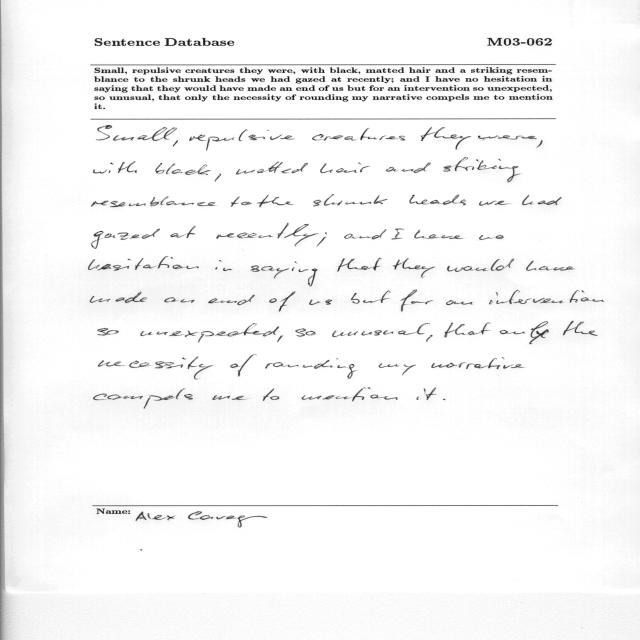word: (140, 323, 279, 343), (99, 357, 214, 380), (216, 223, 319, 246), (190, 129, 296, 151), (93, 389, 193, 409), (265, 358, 357, 379), (444, 158, 522, 182), (251, 262, 318, 287), (89, 256, 199, 271), (489, 290, 604, 304), (91, 229, 160, 249), (333, 323, 431, 337), (92, 197, 216, 208), (96, 125, 177, 141), (302, 388, 398, 401), (312, 128, 405, 141), (421, 127, 471, 150), (500, 321, 549, 344), (431, 358, 524, 370), (236, 162, 308, 175), (313, 195, 387, 207), (447, 259, 514, 272), (393, 258, 435, 278), (444, 323, 491, 338), (155, 163, 211, 175), (401, 290, 433, 311), (337, 258, 382, 272), (409, 195, 466, 206), (90, 292, 147, 303), (93, 161, 137, 174), (269, 291, 296, 312), (351, 290, 391, 304), (526, 260, 575, 271), (563, 321, 598, 336), (230, 355, 254, 376), (320, 163, 370, 173), (378, 363, 416, 376), (208, 295, 255, 305), (414, 230, 464, 239), (257, 195, 294, 207), (344, 230, 387, 240), (522, 195, 562, 205), (402, 162, 431, 173), (170, 226, 196, 238), (478, 136, 537, 141), (417, 388, 437, 400), (231, 196, 252, 207), (263, 388, 279, 401), (295, 328, 316, 337), (216, 260, 233, 271), (164, 297, 195, 303), (212, 395, 246, 400), (479, 201, 510, 206), (98, 328, 119, 335), (391, 229, 404, 240), (317, 233, 327, 247), (309, 299, 332, 305), (446, 300, 473, 305), (479, 235, 504, 240), (386, 167, 397, 172), (426, 335, 433, 342), (537, 140, 543, 148), (215, 174, 221, 182), (278, 336, 284, 343), (173, 140, 178, 147), (443, 399, 445, 400)
